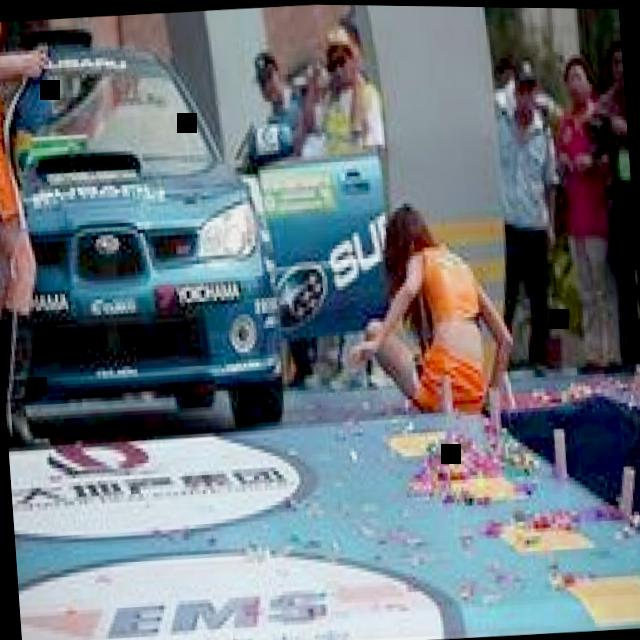Fall-Detected: (323, 175, 515, 426)
